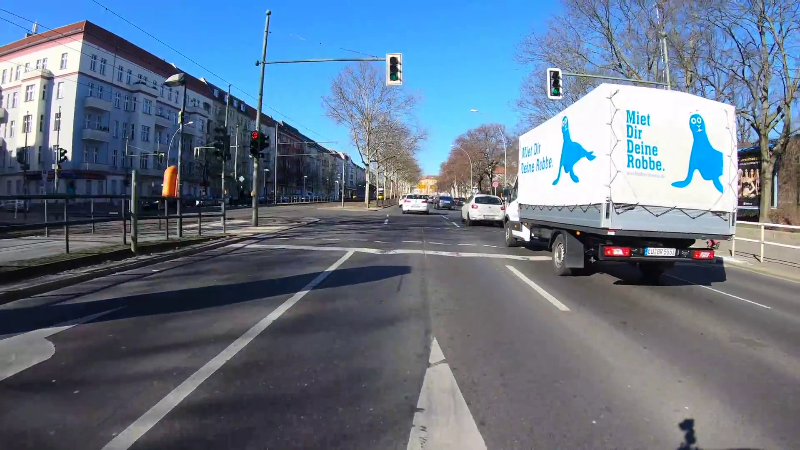Plate: (643, 247, 675, 257)
